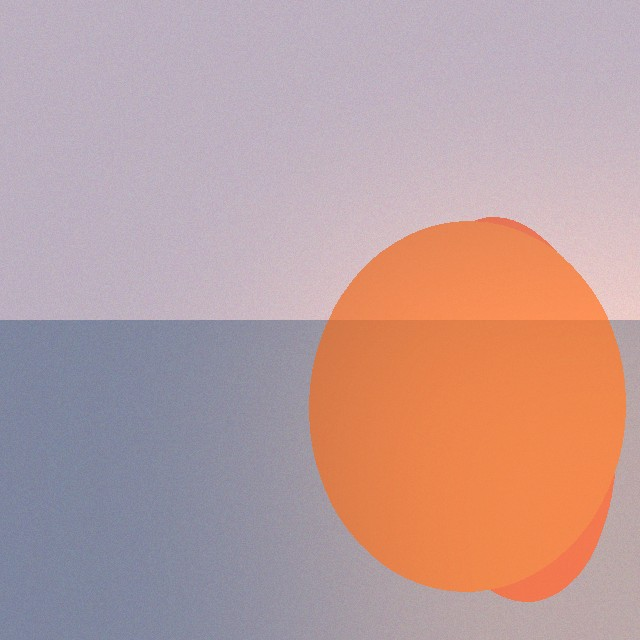fire: (383, 291, 615, 595)
